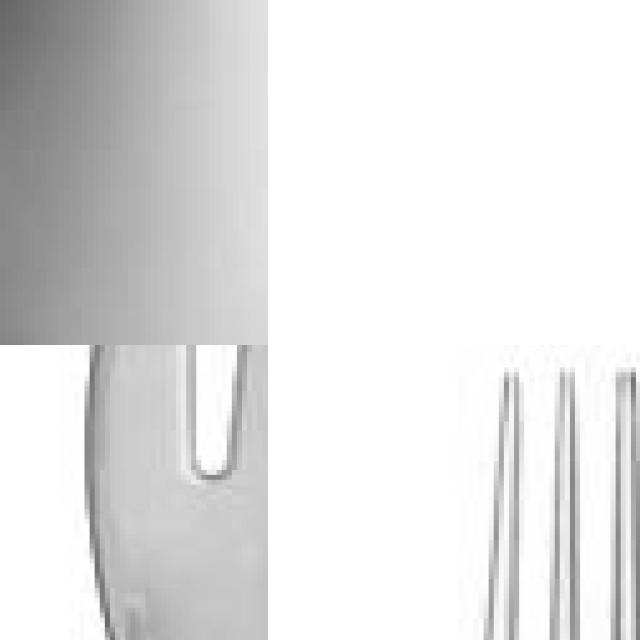forks: (433, 345, 640, 640), (79, 345, 268, 640)
spoons: (0, 0, 268, 345)
